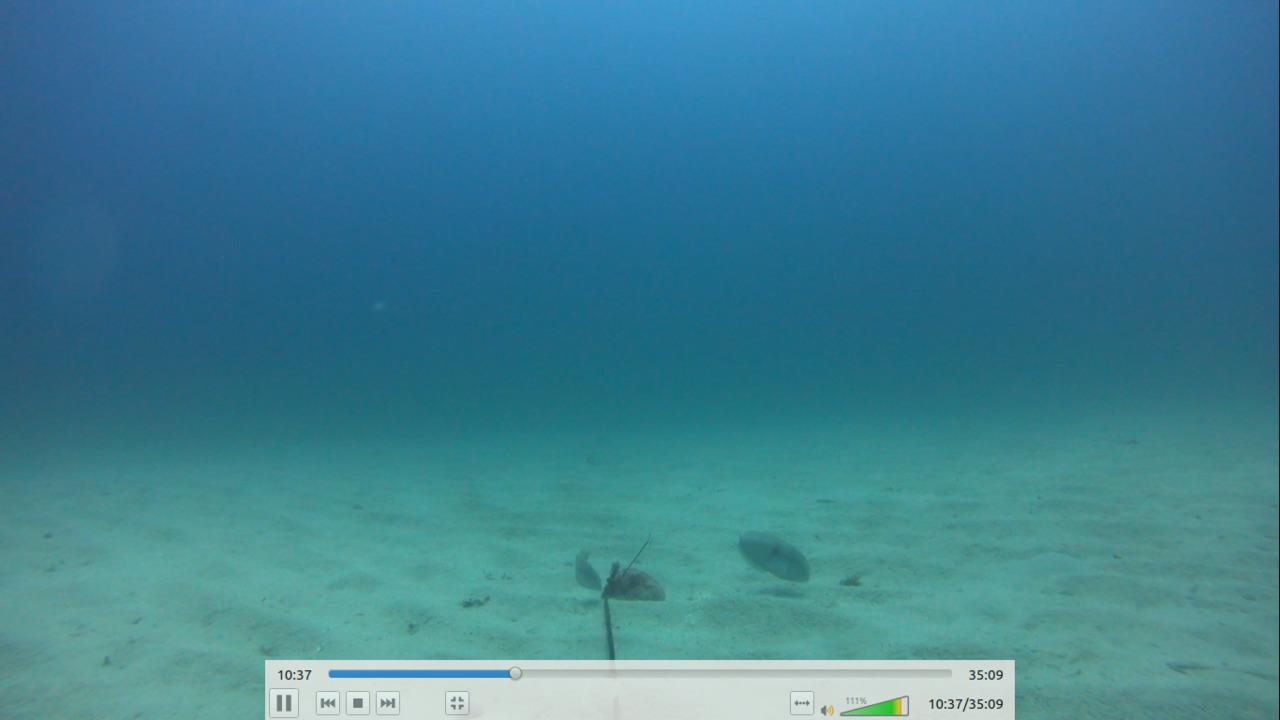raor: (730, 524, 817, 588), (567, 540, 610, 599)
